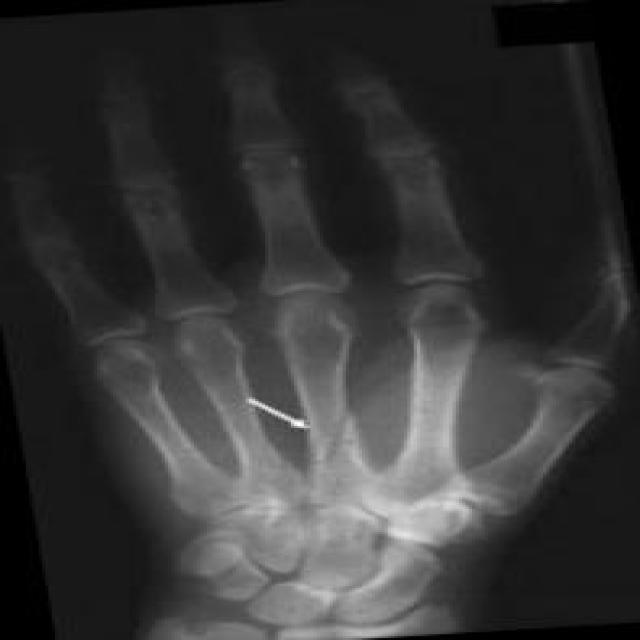Oblique Displaced: (289, 398, 387, 492)
